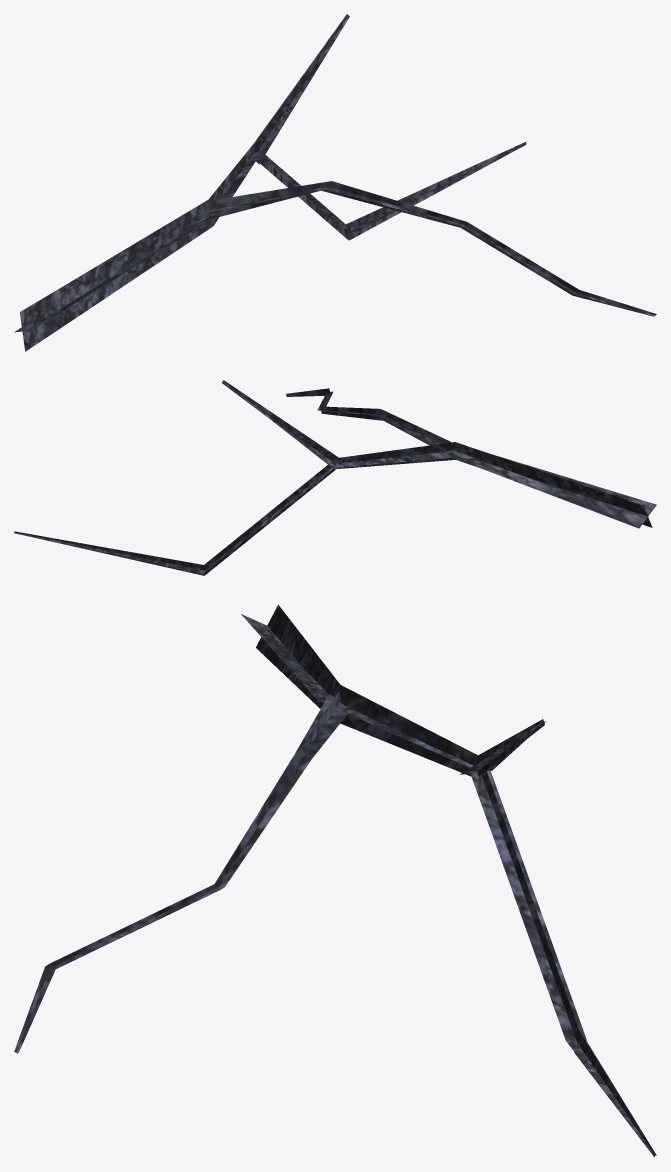
Rendered from INST_EKH_MIRKBRANCH.fbx.
3 views of the same model, one above another, from view 1: azimuth 30°, elevation 25°; view 2: azimuth 150°, elevation 25°; view 3: azimuth 270°, elevation 25° (orthographic). The views are drawn at different scales.
Parts seen in each view (by area): view 1: INST_EKH_MIRKBRANCH; view 2: INST_EKH_MIRKBRANCH; view 3: INST_EKH_MIRKBRANCH.
Part boxes in pixels (bbox=[...]): INST_EKH_MIRKBRANCH: bbox=[14, 14, 656, 351]; INST_EKH_MIRKBRANCH: bbox=[14, 380, 656, 575]; INST_EKH_MIRKBRANCH: bbox=[14, 604, 656, 1157].
Size of the model in its own units: 28387 by 9978 by 17875.
Materials: 1 (1 with a texture image).
